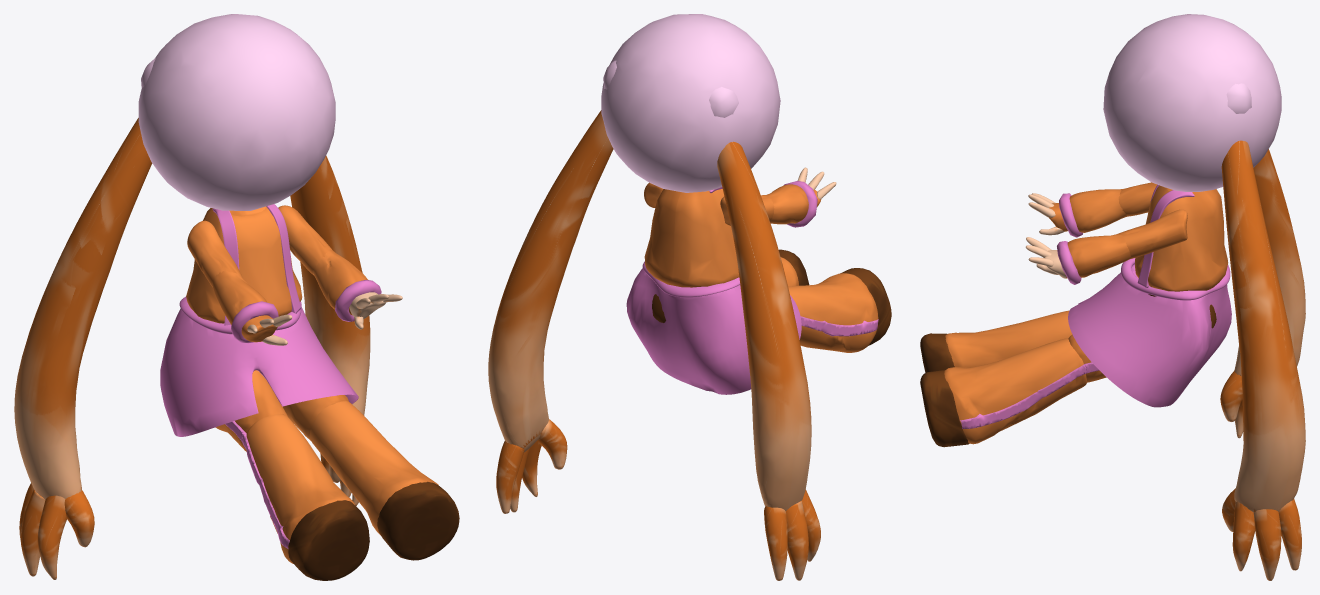
The model's file is gum sit.fbx.
The picture shows the model from 3 angles, left to right: view 1: azimuth 30°, elevation 25°; view 2: azimuth 150°, elevation 25°; view 3: azimuth 270°, elevation 25°; orthographic projection. The views are drawn at different scales.
Parts seen in each view (by area): view 1: Bubble, Hair_R, Skirt, Hair_L, Lower_leg_L, Lower_leg_R, Body, Foot_R, Foot_L, Upper_arm_R, Upper_arm_L, Lower_arm_L (+9 smaller); view 2: Bubble, Hair_R, Hair_L, Skirt, Body, Lower_leg_R, Lower_arm_R, Foot_R, Lower_leg_strip_R, Hair_acc_R.001, Cuff_R.001; view 3: Bubble, Hair_L, Skirt, Lower_leg_L, Body, Hair_R, Lower_leg_R, Foot_L, Lower_arm_L, Upper_arm_L, Lower_arm_R, Lower_leg_strip_L (+8 smaller).
Boxes of the visible parts, x1,y1,x2,y2 form: Bubble: (138,14,335,210); Hair_R: (14,118,152,579); Skirt: (160,296,358,436); Hair_L: (290,155,370,505); Lower_leg_L: (309,401,438,535); Lower_leg_R: (246,414,354,563); Body: (186,206,302,323); Foot_R: (288,500,369,580); Foot_L: (377,481,459,560); Upper_arm_R: (187,220,242,286); Upper_arm_L: (278,205,331,274); Lower_arm_L: (313,249,367,315); Bubble: (601,14,780,192); Hair_R: (717,141,820,580); Hair_L: (488,110,613,513); Skirt: (626,261,801,394); Body: (644,189,739,287); Lower_leg_R: (788,273,878,352); Lower_arm_R: (765,184,808,224); Foot_R: (840,268,891,345); Lower_leg_strip_R: (800,316,878,336); Hair_acc_R.001: (709,87,738,117); Cuff_R.001: (783,181,817,227); Bubble: (1103,14,1281,191); Hair_L: (1221,140,1305,580); Skirt: (1068,258,1231,407); Lower_leg_L: (944,337,1087,444); Body: (1135,185,1228,291); Hair_R: (1220,149,1305,438); Lower_leg_R: (945,310,1072,367); Foot_L: (920,370,969,447); Lower_arm_L: (1066,234,1130,278); Upper_arm_L: (1118,209,1187,258); Lower_arm_R: (1069,188,1127,232); Lower_leg_strip_L: (960,364,1086,428).
Bounding box in the file's own units: 143 × 215 × 153.
